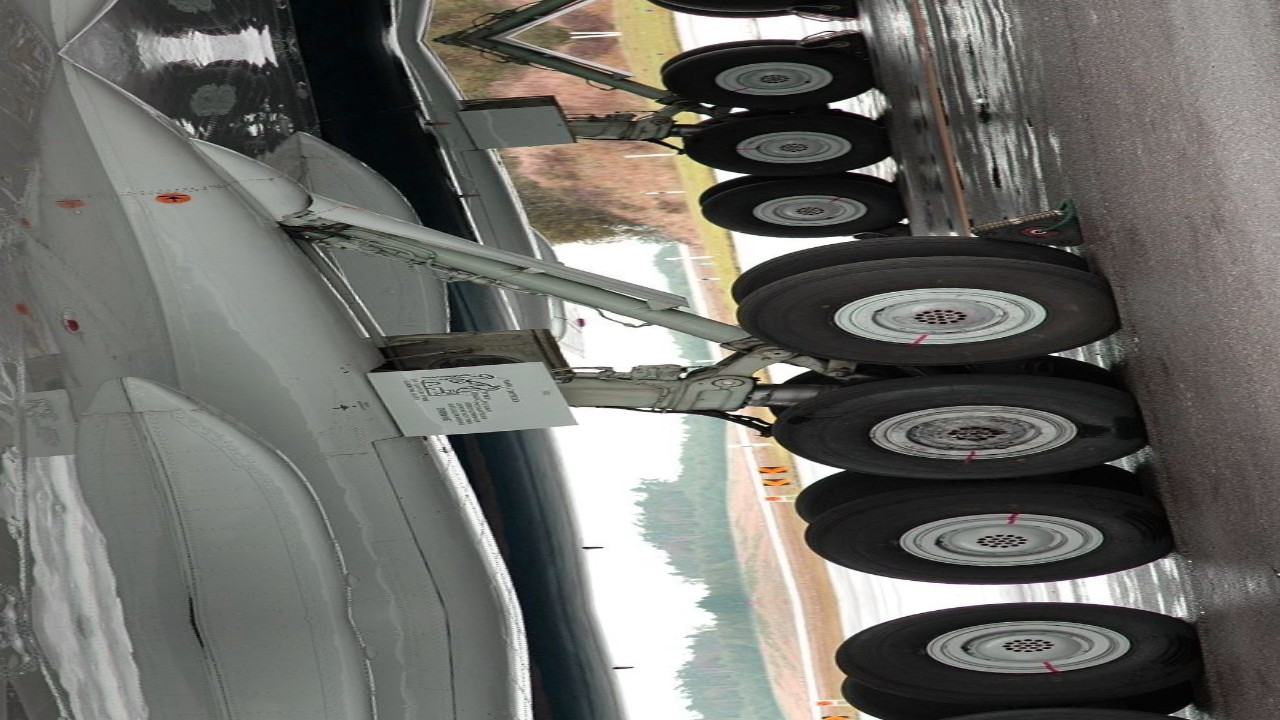chock: (958, 205, 1094, 252), (788, 27, 873, 57), (780, 0, 865, 25), (843, 223, 918, 242)
wheel: (720, 248, 1134, 373), (759, 368, 1167, 487), (820, 595, 1218, 708), (792, 481, 1189, 593), (657, 43, 886, 113), (686, 175, 912, 242), (682, 110, 904, 178)
